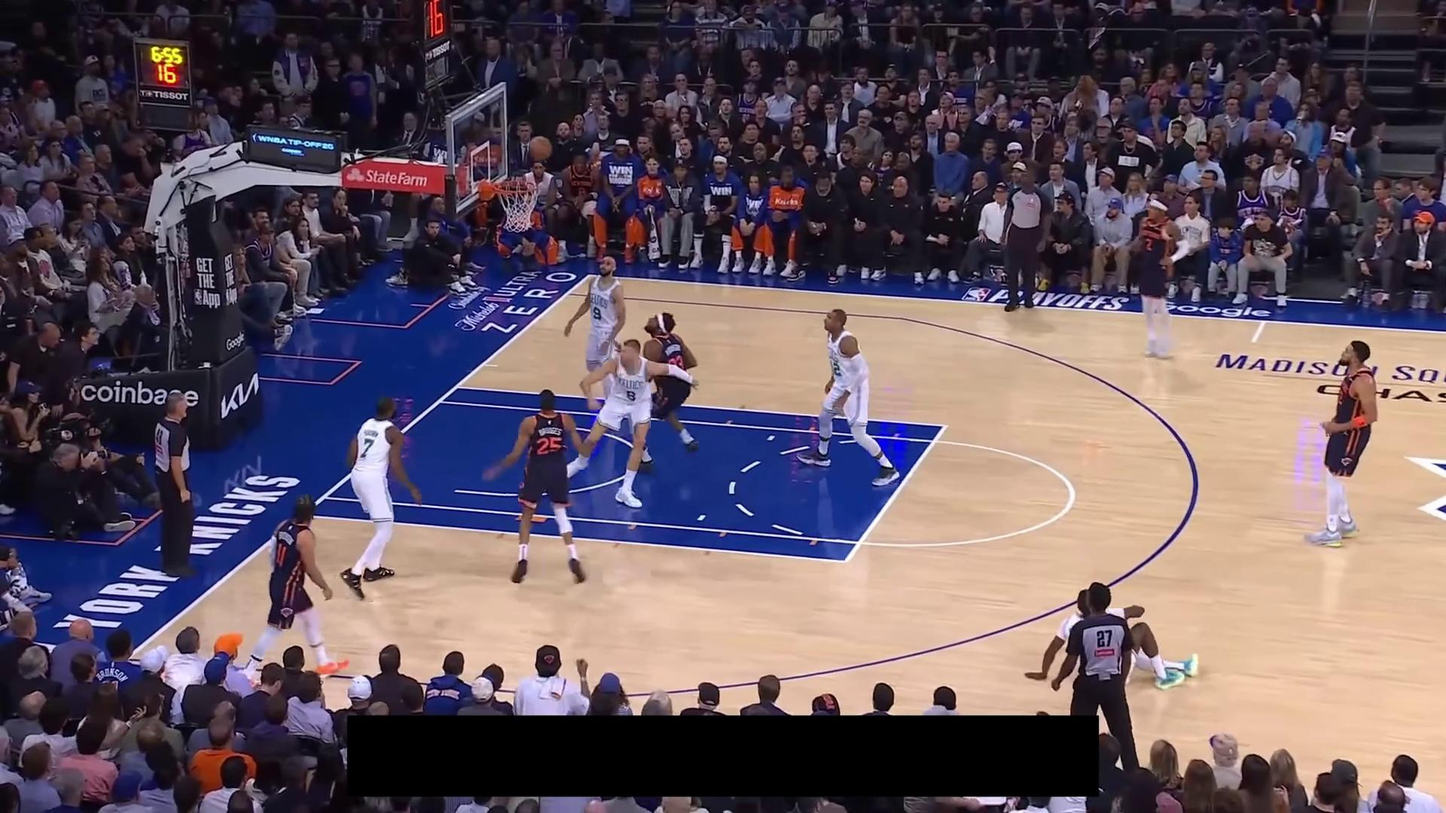ball: (529, 136, 552, 160)
number: (536, 436, 560, 455), (273, 542, 287, 568), (359, 437, 374, 460), (590, 304, 603, 321), (625, 388, 637, 403), (1145, 236, 1154, 252)
player: (566, 339, 700, 509), (239, 492, 352, 683), (484, 388, 593, 586), (795, 306, 901, 489), (1024, 588, 1199, 691), (339, 392, 423, 601), (1302, 339, 1379, 549), (1115, 193, 1190, 361), (635, 311, 701, 473), (564, 256, 626, 401)
referee: (1051, 580, 1145, 772), (152, 391, 200, 576), (999, 166, 1054, 312)
rim: (493, 180, 538, 195)
